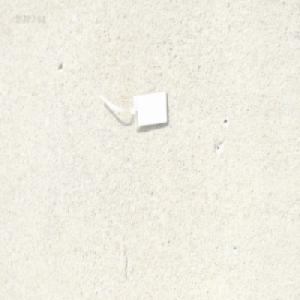LuggageTag: (99, 73, 170, 130)
